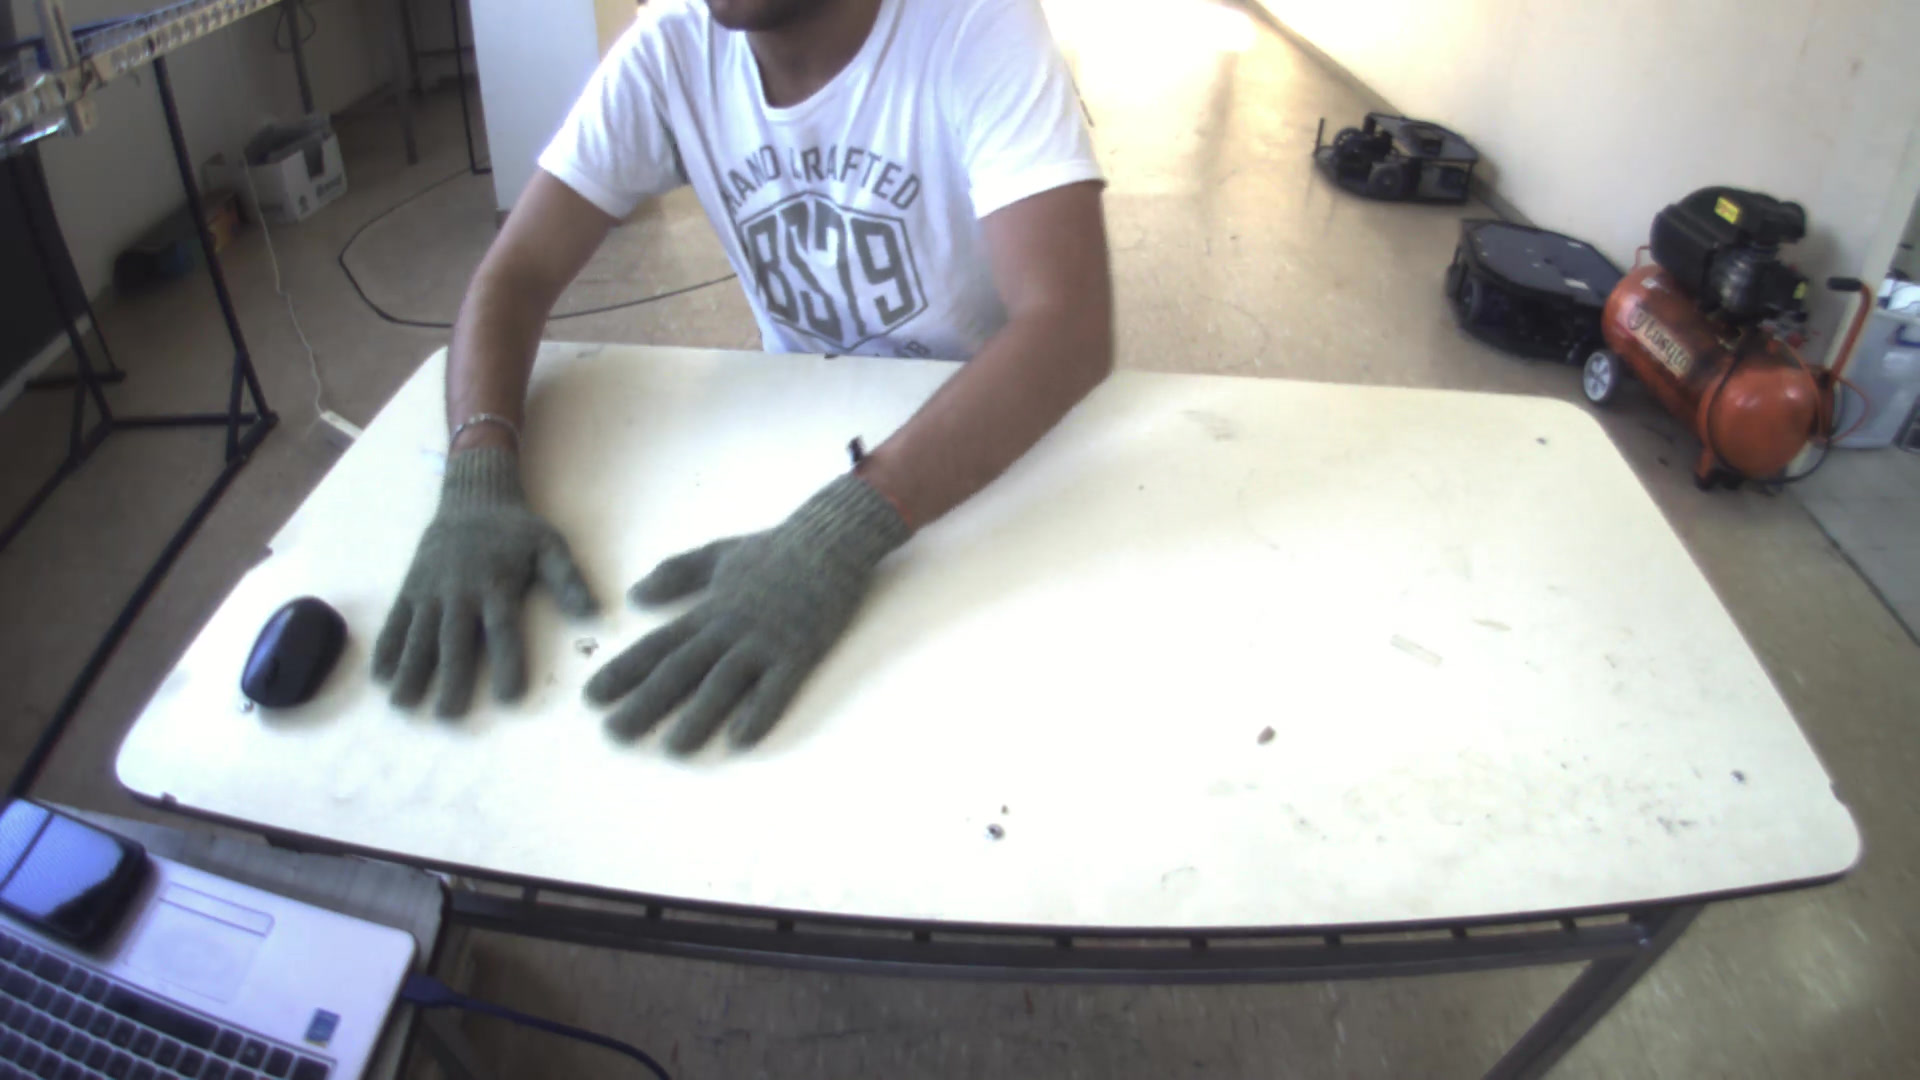hand: (563, 471, 909, 773), (353, 425, 576, 729)
